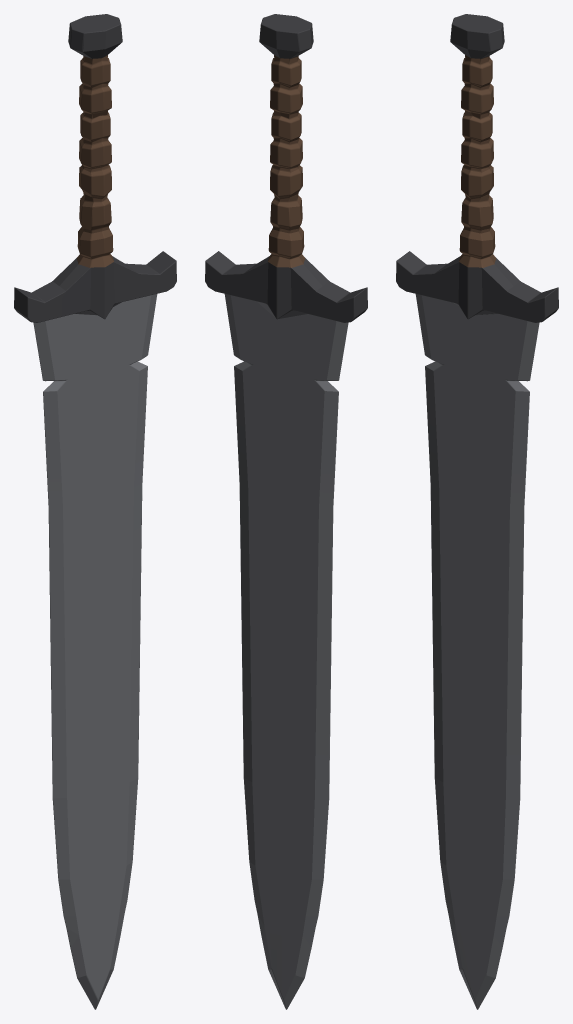
File: sword_2.glb
The picture shows the model from 3 angles, left to right: view 1: azimuth 30°, elevation 25°; view 2: azimuth 150°, elevation 25°; view 3: azimuth 330°, elevation 25°; orthographic projection.
Parts seen in each view (by area): view 1: sword_2; view 2: sword_2; view 3: sword_2.
Boxes of the visible parts, box(x1,y1,x2,y2) form: sword_2: box(14, 14, 176, 1009); sword_2: box(205, 14, 367, 1009); sword_2: box(396, 14, 558, 1009).
Bounding box in the file's own units: 0.2141 × 1.35 × 0.05.
